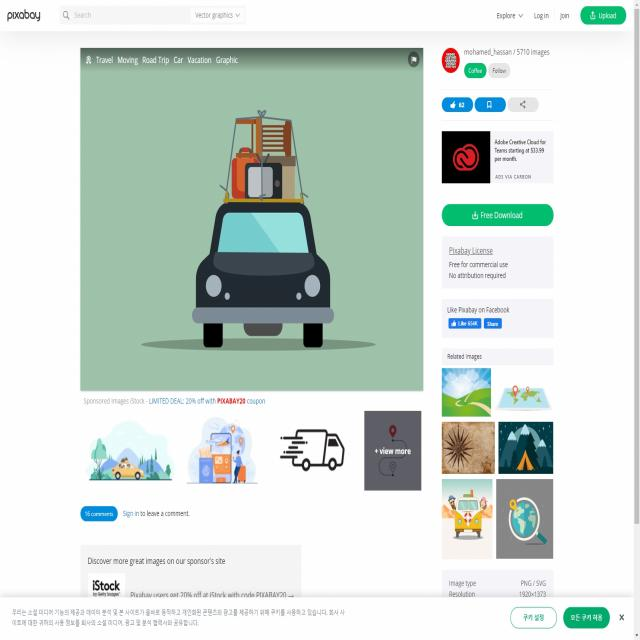menu-bar: (492, 1, 630, 29)
search: (58, 1, 248, 30)
